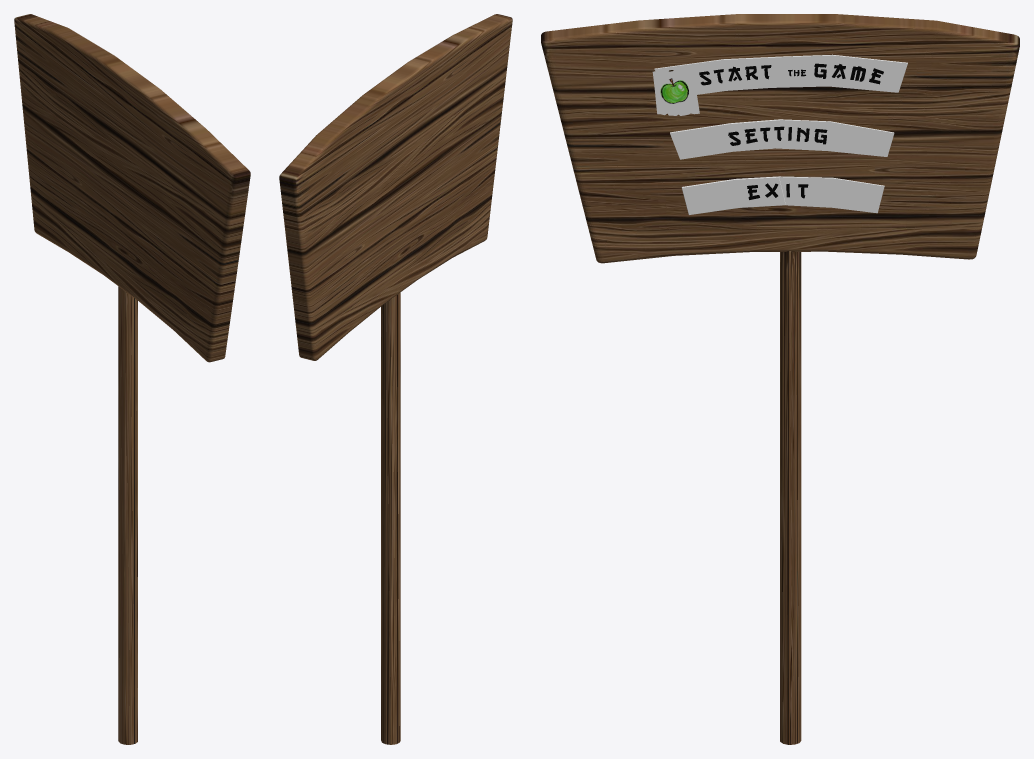
Rendered from доска.fbx.
3 renders of one model, left to right at view 1: azimuth 30°, elevation 25°; view 2: azimuth 150°, elevation 25°; view 3: azimuth 270°, elevation 25°, orthographic. The views are drawn at different scales.
Parts seen in each view (by area): view 1: Плоскость, Cylinder; view 2: Плоскость, Cylinder; view 3: Плоскость, Cylinder, Текст.004, Плоскость.003, Текст.003, Текст.006, Текст.002, Текст.001.
Part boxes in pixels (box(x1,y1,x2,y2)): Плоскость: box(14, 14, 250, 362); Cylinder: box(118, 286, 137, 744); Плоскость: box(279, 14, 512, 360); Cylinder: box(381, 292, 400, 744); Плоскость: box(541, 14, 1019, 263); Cylinder: box(780, 250, 801, 744); Текст.004: box(652, 56, 780, 115); Плоскость.003: box(769, 54, 907, 92); Текст.003: box(775, 119, 894, 156); Текст.006: box(670, 119, 779, 159); Текст.002: box(779, 176, 884, 213); Текст.001: box(681, 176, 785, 214).
Bounding box in the file's own units: 22.57 × 700 × 421.
6 materials, 2 textured.
